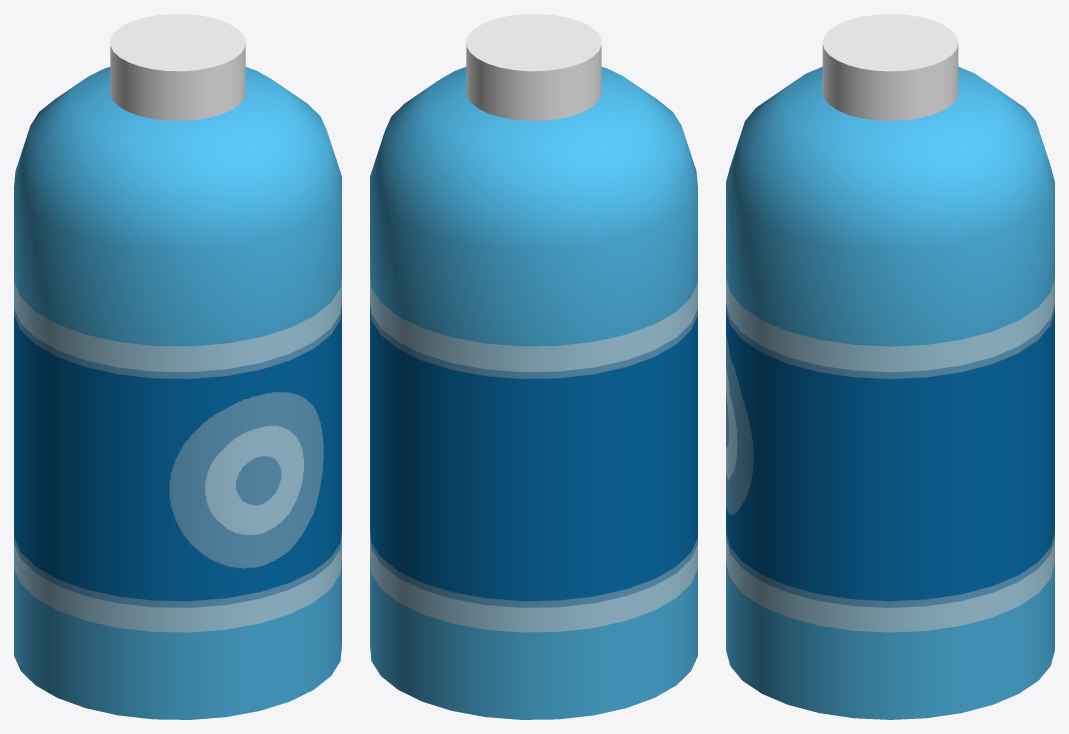
File: Laundry_Detergent.fbx
3 renders of one model, left to right at view 1: azimuth 30°, elevation 25°; view 2: azimuth 150°, elevation 25°; view 3: azimuth 270°, elevation 25°, orthographic.
Visible parts, largest first — view 1: Laundry_Detergent; view 2: Laundry_Detergent; view 3: Laundry_Detergent.
Boxes of the visible parts, box(x1,y1,x2,y2) form: Laundry_Detergent: box(14, 14, 341, 719); Laundry_Detergent: box(370, 14, 697, 719); Laundry_Detergent: box(726, 14, 1054, 719).
Bounding box in the file's own units: 0.15 × 0.31 × 0.15.
Materials: 3 (1 with a texture image).
